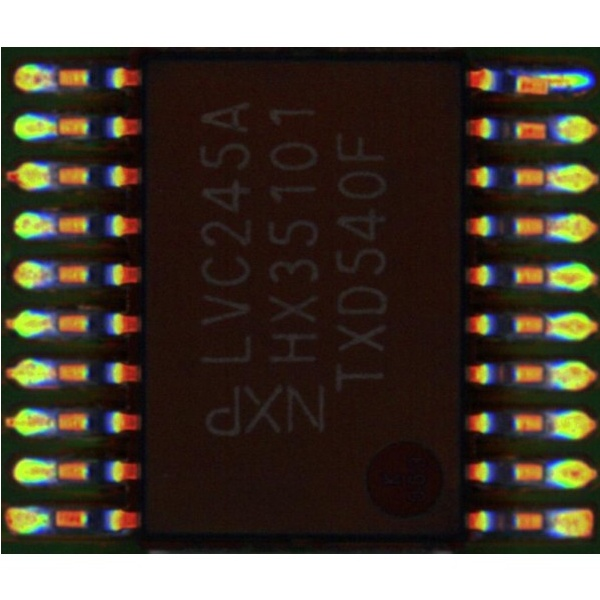Bad_podu: (536, 74, 558, 86)
